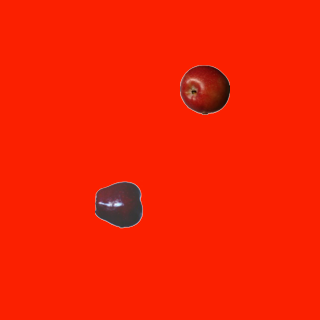Apple Braeburn: (179, 64, 229, 114)
Apple Red Delicious: (94, 179, 144, 229)
